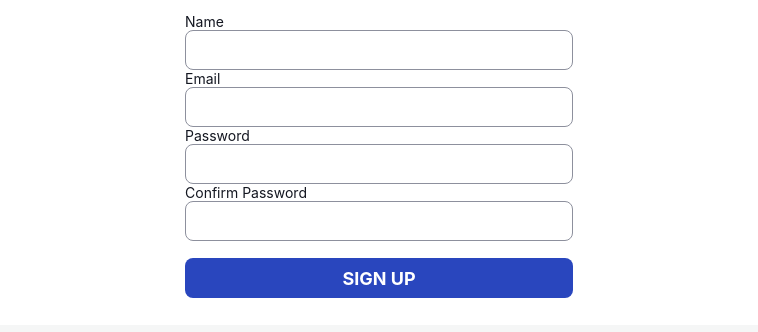
Test case: SignUpForm Testing... › When a user does not enter a valid email type & at least 8 character for the password
The width and height of the screenshot is (758, 332).
Type "jestTest" into the field labelled "Name". click: (379, 50)
box: [185,30,573,70]
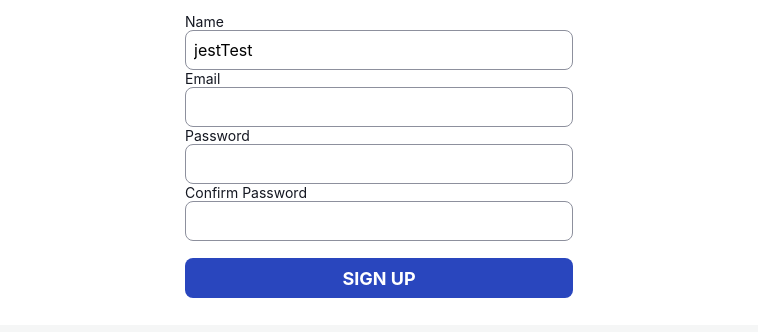
Type "test" into the field labelled "Email". click: (379, 107)
box: [185,87,573,127]
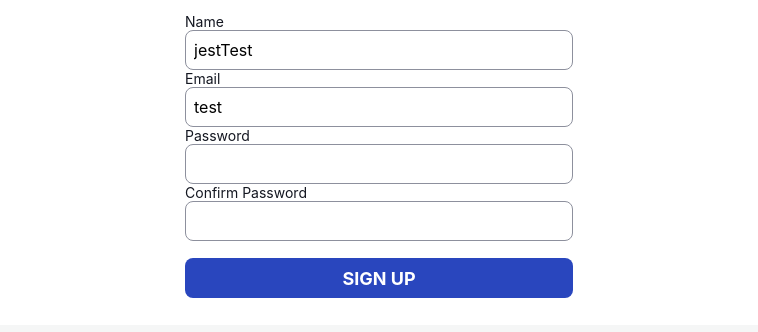
Type "1234" into the password field labelled "Password". click: (379, 164)
box: [185,144,573,184]
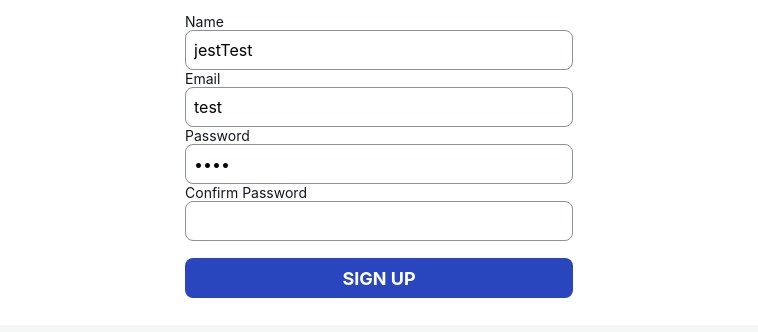
Type "1234" into the password field labelled "Confirm Password". click: (379, 221)
box: [185,201,573,241]
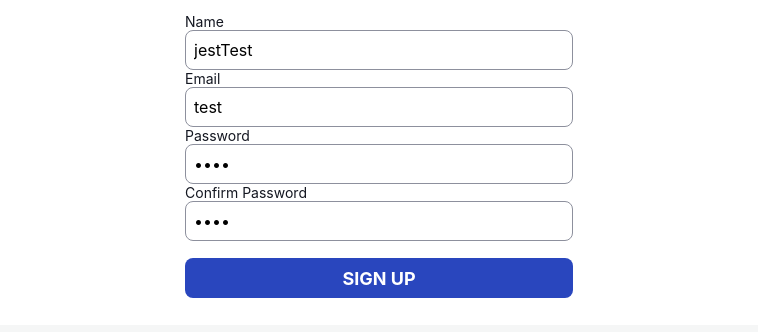
Click the button. click: (379, 278)
box: [185,258,573,298]
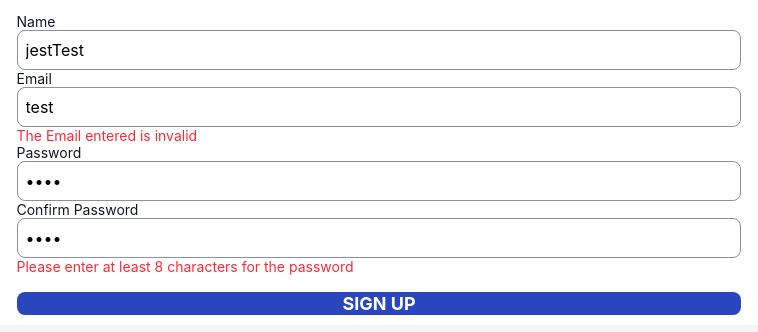
Expected: the text "The Email entered is invalid" is shown, [16,127,197,144]
Expected: the text "Please enter at least 8 characters for the password" is shown, [16,258,354,275]
